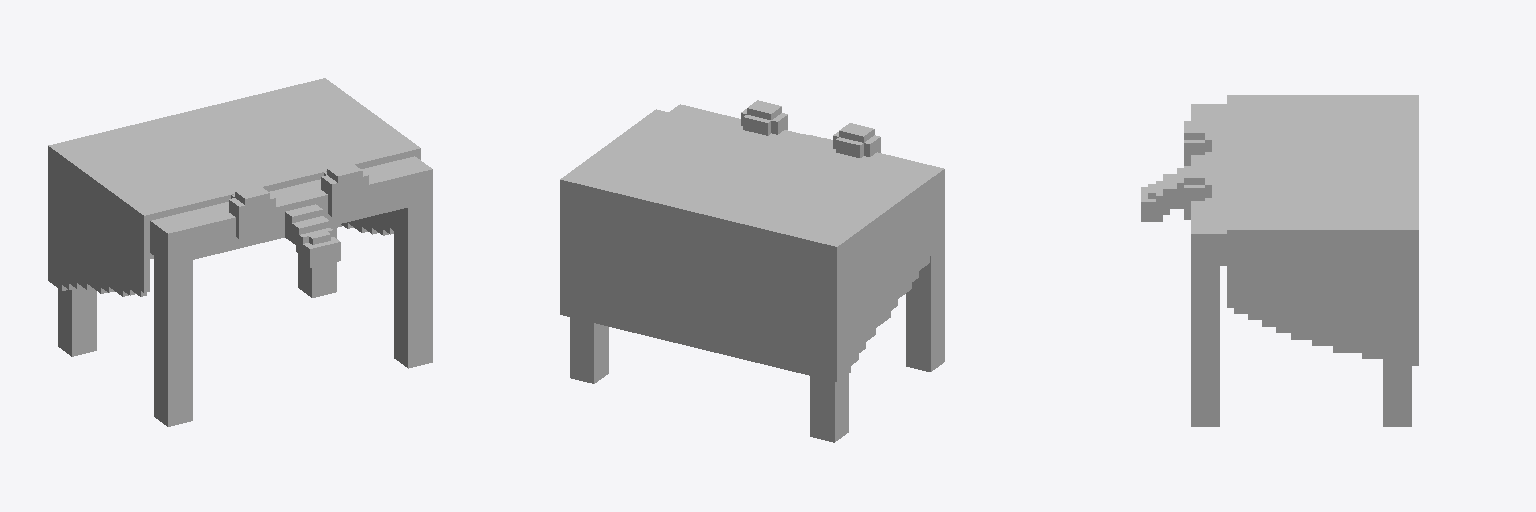
Rendered from SUPER TABLEEEEH (EVOLUTION FINAL).obj.
3 renders of one model, left to right at view 1: azimuth 30°, elevation 25°; view 2: azimuth 150°, elevation 25°; view 3: azimuth 270°, elevation 25°, orthographic.
Parts seen in each view (by area): view 1: object 1; view 2: object 1; view 3: object 1.
Part boxes in pixels (bbox=[...]): object 1: bbox=[48, 78, 432, 426]; object 1: bbox=[560, 100, 944, 442]; object 1: bbox=[1141, 95, 1418, 426].
Size of the model in its own units: 4.5 by 3.3 by 3.9.